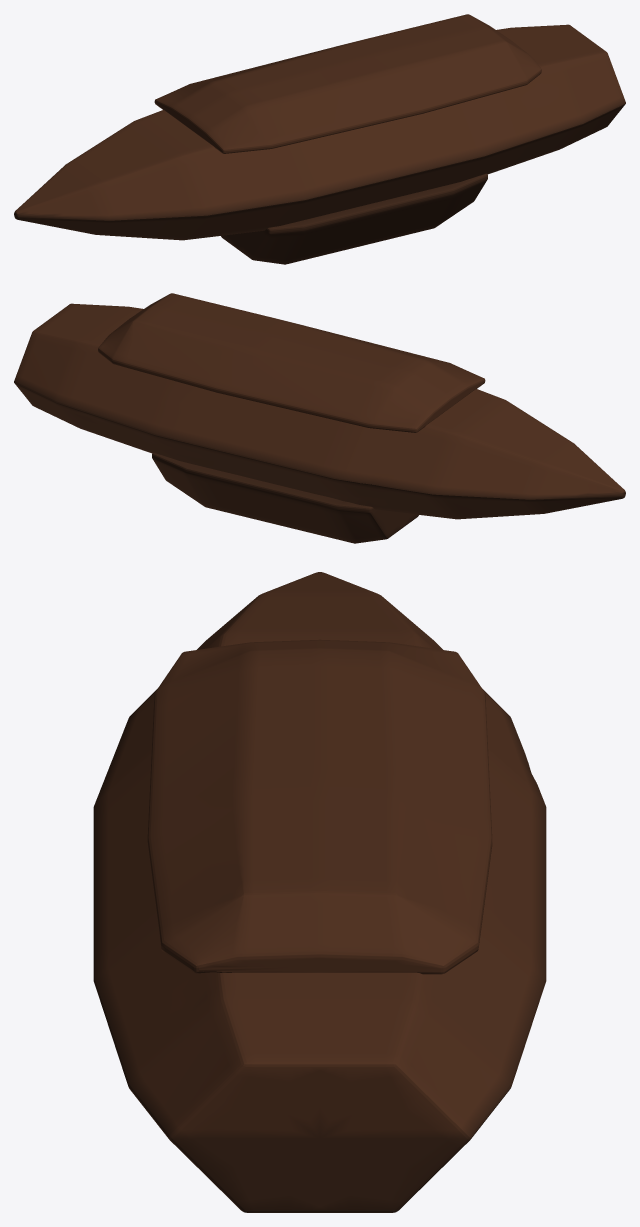
Rendered from C19_51_v15_shell.glb.
The picture shows the model from 3 angles, top to bottom: view 1: azimuth 30°, elevation 25°; view 2: azimuth 150°, elevation 25°; view 3: azimuth 270°, elevation 25°; orthographic projection. The views are drawn at different scales.
Visible parts, largest first — view 1: C19v15_shell; view 2: C19v15_shell; view 3: C19v15_shell.
Boxes of the visible parts, left/top/right/bottom form: C19v15_shell: left=14, top=14, right=625, bottom=264; C19v15_shell: left=14, top=293, right=625, bottom=543; C19v15_shell: left=93, top=572, right=546, bottom=1212.
Bounding box in the file's own units: 0.96 × 0.273 × 0.3278.
